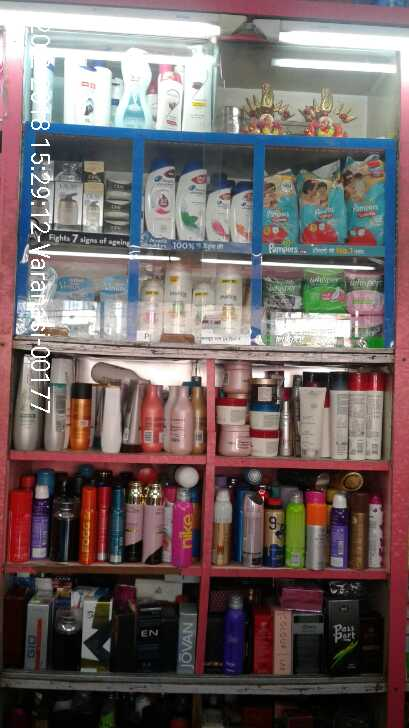venus: (57, 277, 99, 334), (99, 275, 129, 334)
